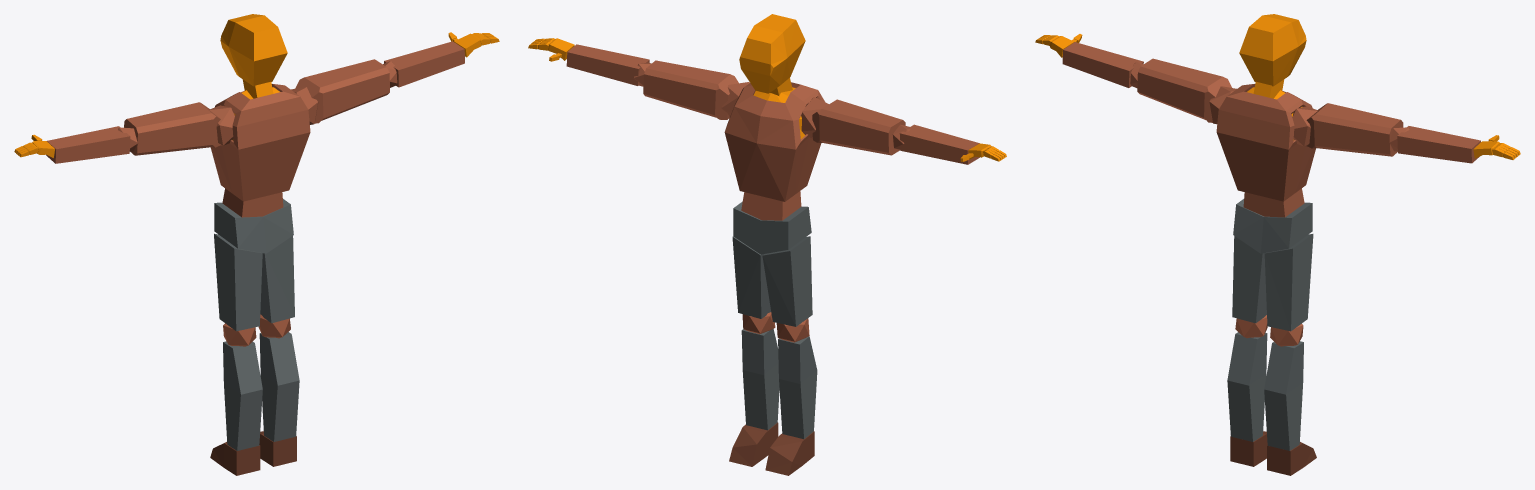
Rendered from Charecter_HasFIngers .dae.
3 views of the same model, side by side, from view 1: azimuth 30°, elevation 25°; view 2: azimuth 150°, elevation 25°; view 3: azimuth 330°, elevation 25° (orthographic).
Parts seen in each view (by area): view 1: West, Leg2_L, Leg2_R, Leg1_L, Arm1_L, Head, Arm1_R, Butt, Leg1_R, Arm2_L, Arm2_R, Foot_L (+5 smaller); view 2: West, Head, Arm1_R, Leg2_L, Arm1_L, Leg1_L, Leg2_R, Butt, Leg1_R, Arm2_R, Arm2_L, Foot_L (+5 smaller); view 3: West, Leg2_R, Leg2_L, Leg1_R, Arm1_R, Head, Arm1_L, Butt, Leg1_L, Arm2_R, Arm2_L, Foot_R (+5 smaller).
Part boxes in pixels (box(x1,y1,x2,y2)): West: box(210, 84, 310, 201); Leg2_L: box(223, 341, 262, 450); Leg2_R: box(259, 332, 299, 441); Leg1_L: box(214, 233, 262, 331); Arm1_L: box(124, 102, 220, 155); Head: box(220, 14, 287, 86); Arm1_R: box(295, 59, 389, 123); Butt: box(214, 199, 293, 253); Leg1_R: box(260, 236, 294, 323); Arm2_L: box(46, 126, 130, 163); Arm2_R: box(384, 41, 464, 87); Foot_L: box(210, 442, 260, 475); West: box(724, 82, 824, 201); Head: box(739, 14, 805, 93); Arm1_R: box(643, 60, 738, 119); Leg2_L: box(778, 336, 817, 439); Arm1_L: box(812, 99, 905, 155); Leg1_L: box(762, 236, 812, 326); Leg2_R: box(741, 329, 779, 430); Butt: box(733, 201, 811, 254); Leg1_R: box(732, 236, 771, 318); Arm2_R: box(566, 44, 649, 85); Arm2_L: box(899, 124, 979, 164); Foot_L: box(765, 431, 814, 475); West: box(1216, 84, 1315, 201); Leg2_R: box(1264, 341, 1303, 450); Leg2_L: box(1227, 332, 1267, 441); Leg1_R: box(1264, 234, 1313, 331); Arm1_R: box(1306, 103, 1403, 156); Head: box(1239, 14, 1306, 86); Arm1_L: box(1137, 58, 1231, 122); Butt: box(1233, 198, 1312, 253); Leg1_L: box(1232, 236, 1266, 323); Arm2_R: box(1397, 126, 1480, 163); Arm2_L: box(1062, 42, 1143, 87); Foot_R: box(1267, 442, 1316, 475).
Size of the model in its own units: 4.93 by 0.6715 by 4.33.
